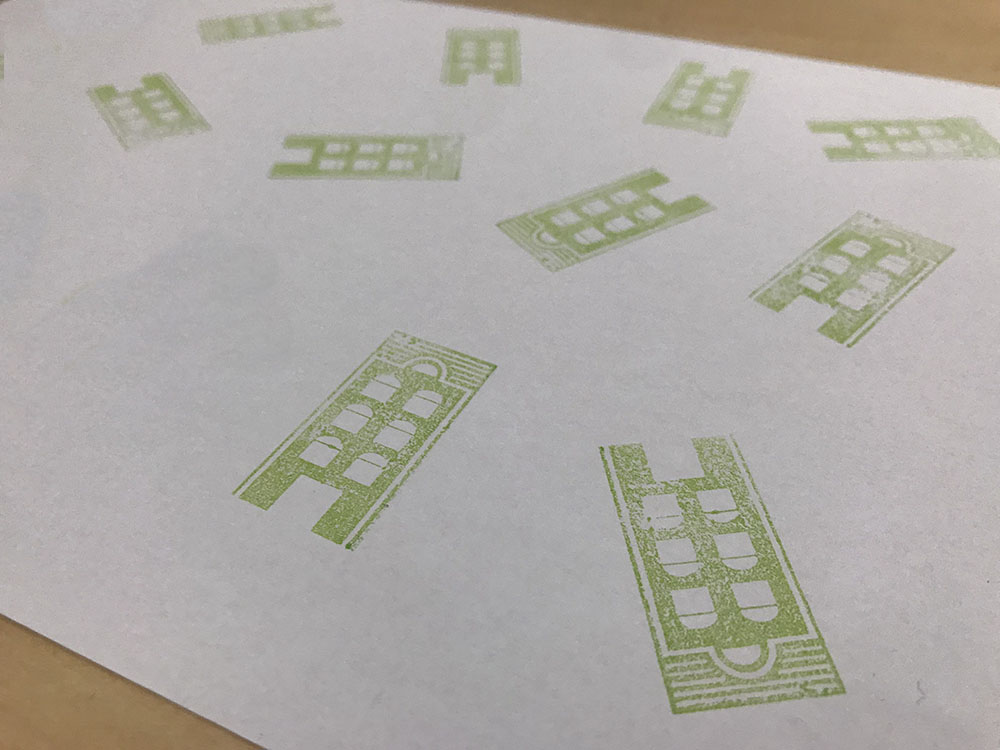build: (203, 304, 525, 575), (581, 423, 859, 730), (732, 191, 969, 366), (481, 154, 725, 283), (789, 95, 1000, 186), (69, 58, 226, 166), (625, 45, 772, 155), (253, 128, 474, 192), (414, 13, 546, 108), (188, 2, 352, 56)
